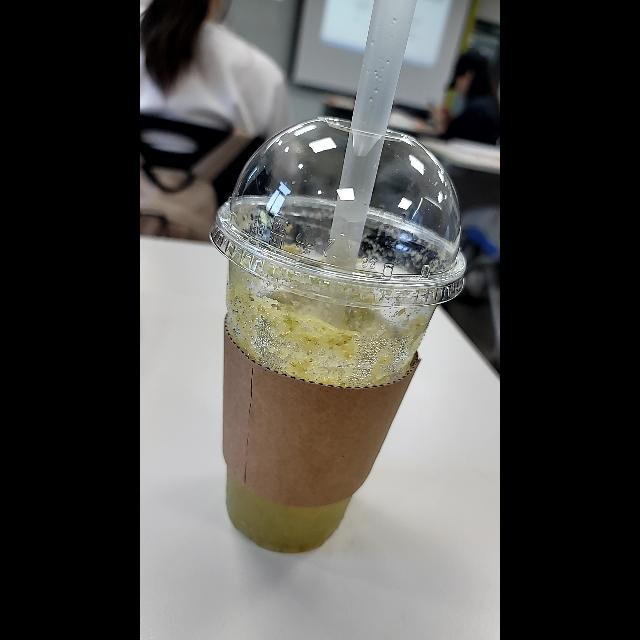plastic_cup: (208, 118, 470, 554)
plastic_cup_lid: (210, 113, 470, 313)
straw: (315, 0, 417, 324)
